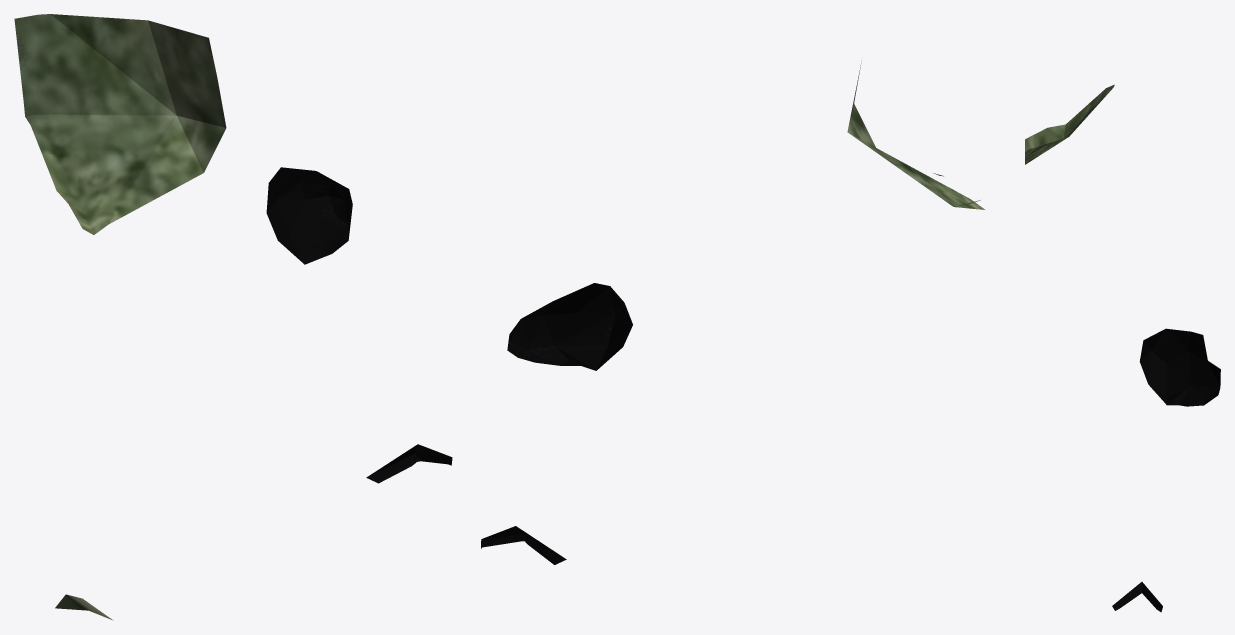
3 renders of one model, left to right at view 1: azimuth 30°, elevation 25°; view 2: azimuth 150°, elevation 25°; view 3: azimuth 270°, elevation 25°, orthographic. The views are drawn at different scales.
Bounding box in the file's own units: 2.45 × 2.95 × 1.2.
1 material, 1 textured.
